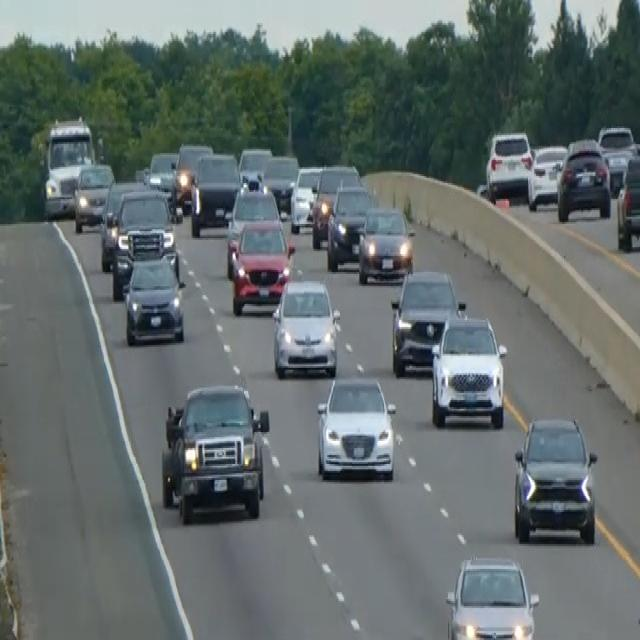car: (512, 412, 598, 544), (430, 310, 507, 428), (315, 373, 397, 482), (444, 553, 540, 638), (390, 267, 463, 377), (110, 187, 178, 297), (271, 276, 340, 378), (230, 217, 295, 315), (122, 254, 186, 345), (224, 176, 281, 276), (556, 137, 611, 222), (357, 202, 414, 284), (98, 178, 147, 270), (326, 182, 377, 270), (189, 150, 241, 236), (311, 162, 360, 247), (484, 128, 533, 199), (73, 160, 115, 233), (173, 140, 213, 210), (526, 142, 567, 210), (597, 123, 637, 192), (261, 153, 299, 215), (616, 151, 639, 251), (146, 149, 180, 215), (289, 164, 322, 231), (237, 144, 272, 187)
jeep: (160, 380, 270, 522)
lorry: (40, 114, 96, 218)
